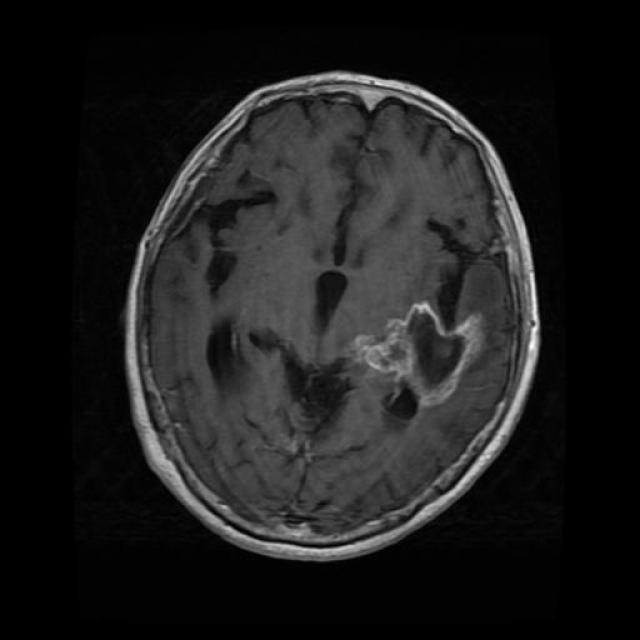glioma: (358, 302, 484, 413)
